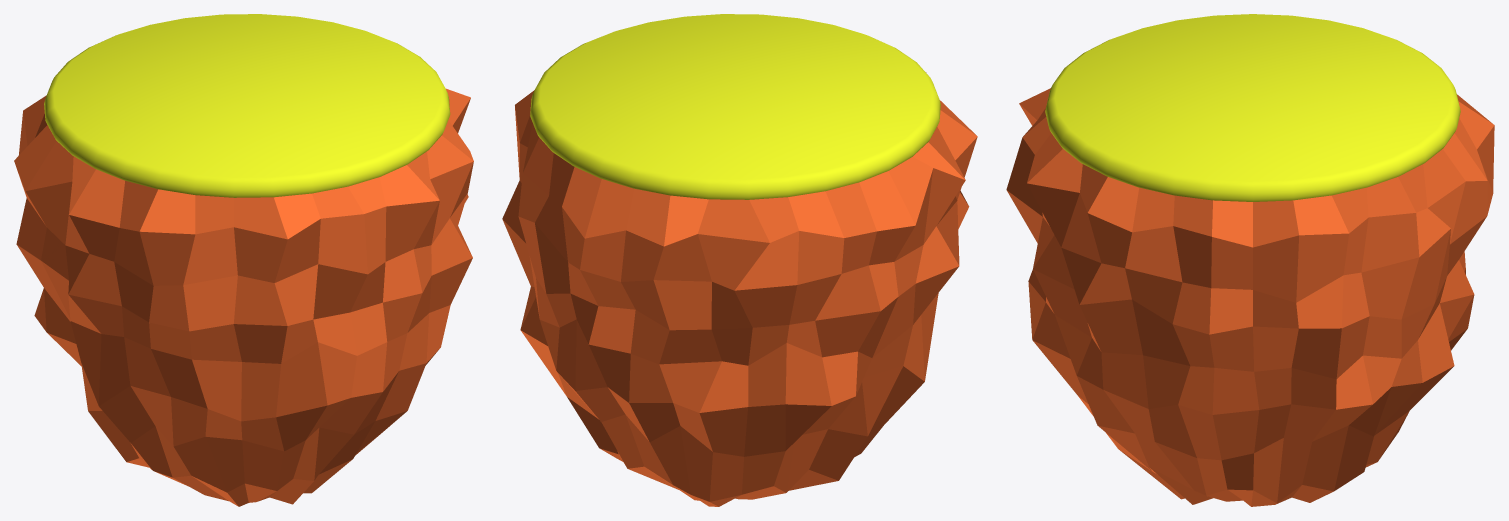
File: island3.fbx
The picture shows the model from 3 angles, left to right: view 1: azimuth 30°, elevation 25°; view 2: azimuth 150°, elevation 25°; view 3: azimuth 270°, elevation 25°; orthographic projection. The views are drawn at different scales.
Visible parts, largest first — view 1: island(3); view 2: island(3); view 3: island(3).
Part boxes in pixels (left/top/right/bottom): island(3): left=14, top=14, right=473, bottom=506; island(3): left=502, top=14, right=977, bottom=506; island(3): left=1006, top=14, right=1494, bottom=506.
Bounding box in the file's own units: 35.51 × 31.92 × 36.15.
Materials: 1 (1 with a texture image).
